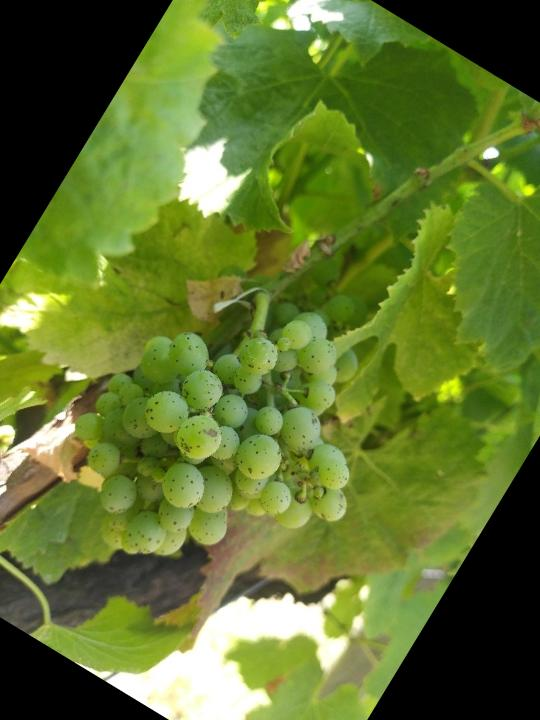grape: (28, 233, 432, 648)
